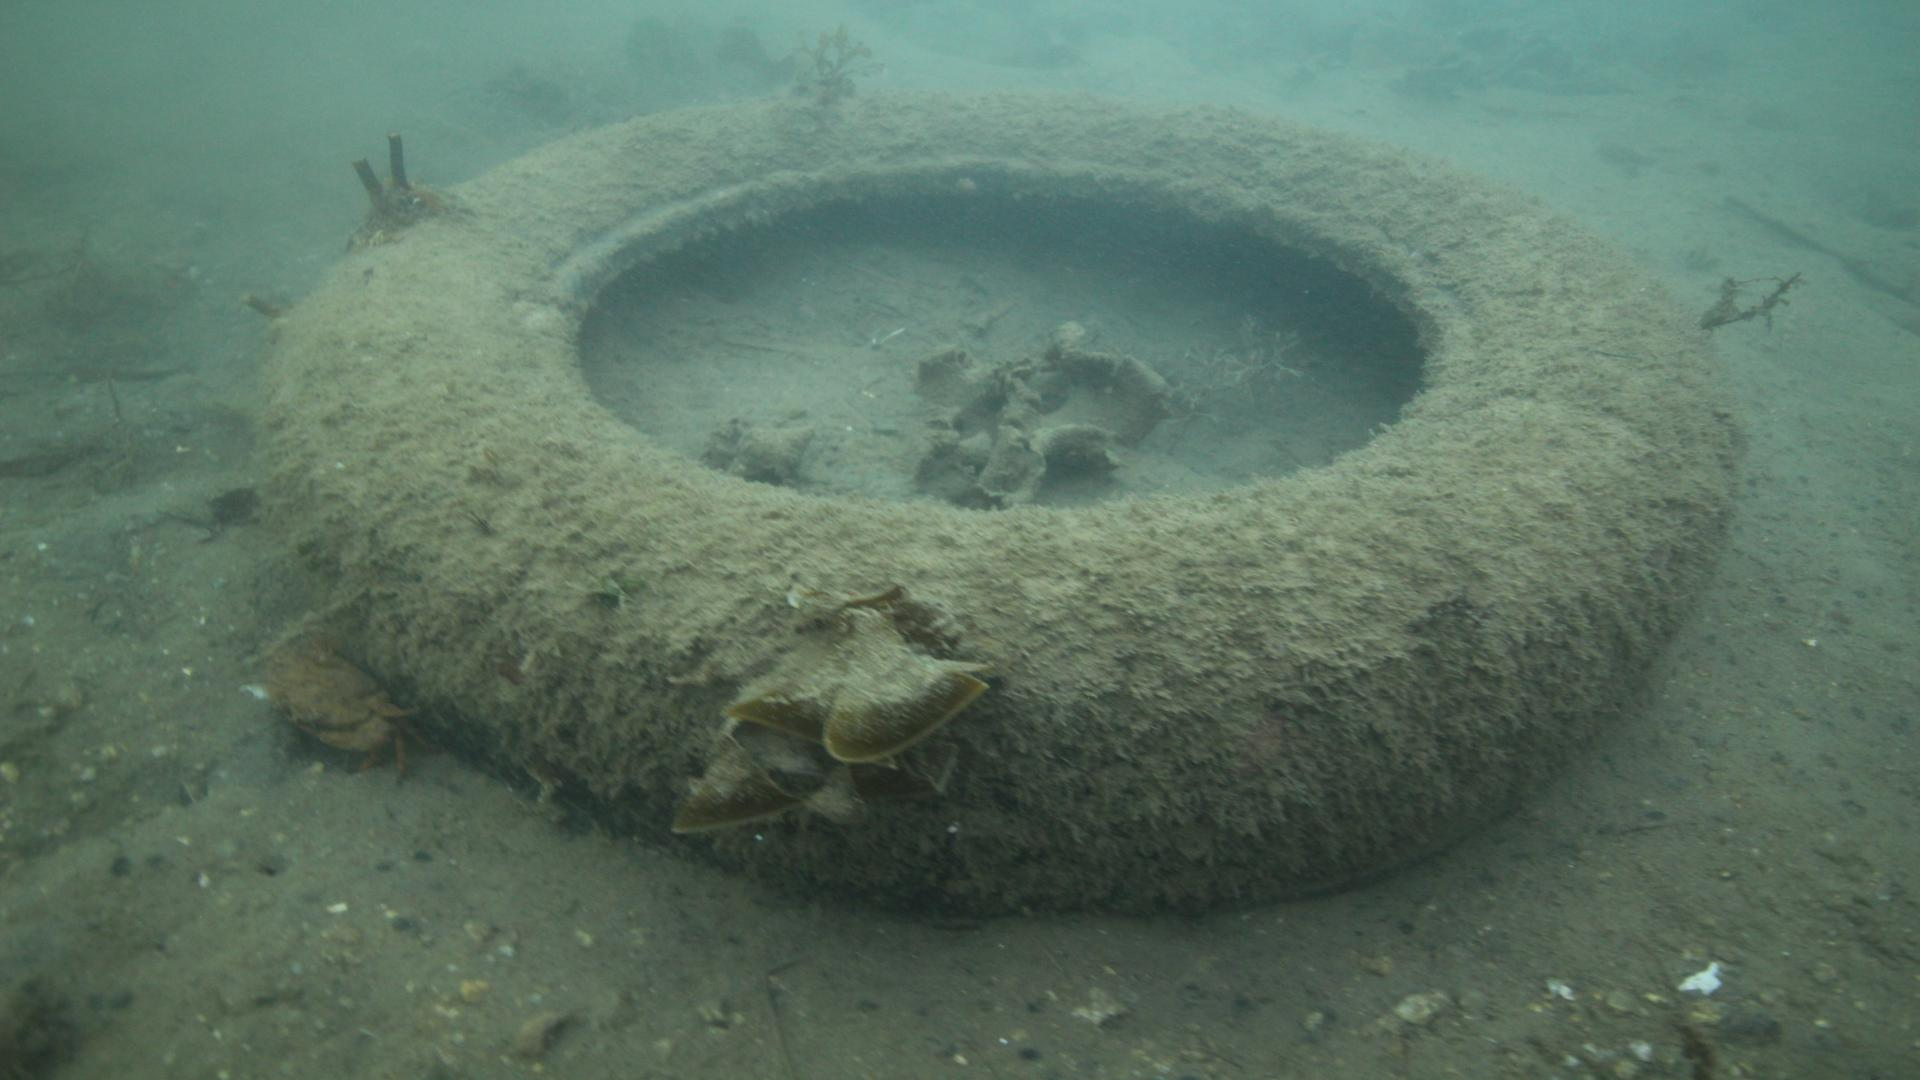tire: (261, 90, 1741, 923)
